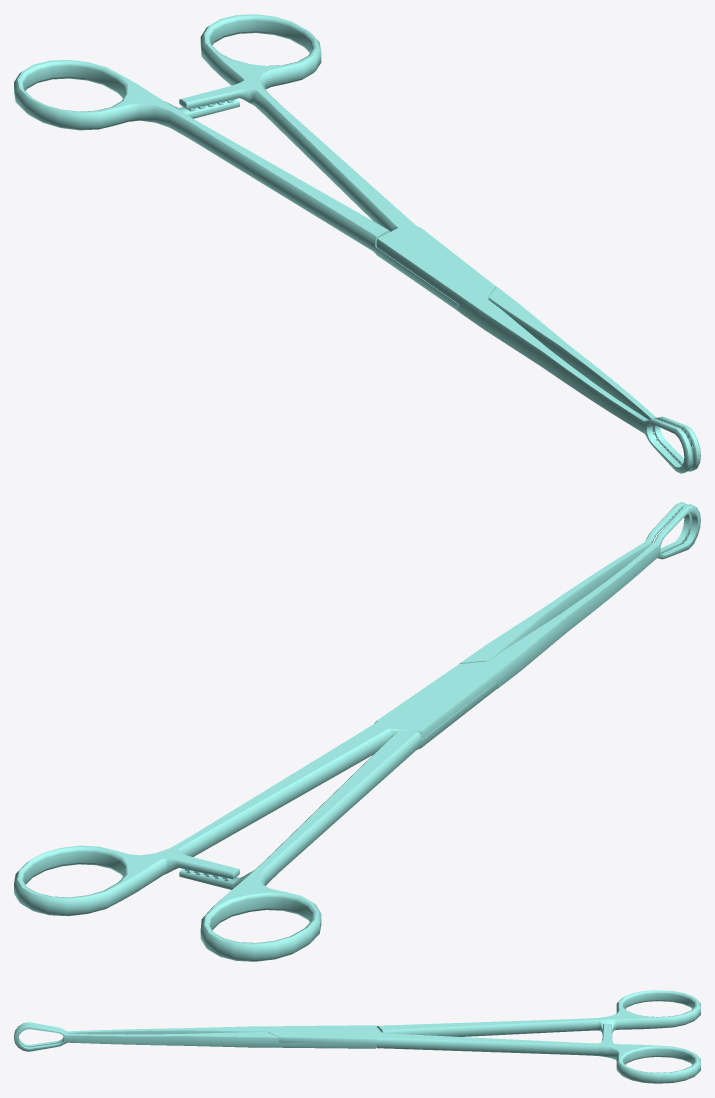
Rendered from Sponge_forceps.fbx.
The picture shows the model from 3 angles, top to bottom: view 1: azimuth 30°, elevation 25°; view 2: azimuth 150°, elevation 25°; view 3: azimuth 270°, elevation 25°; orthographic projection. The views are drawn at different scales.
Visible parts, largest first — view 1: sponge_forceps; view 2: sponge_forceps; view 3: sponge_forceps.
Boxes of the visible parts, x1,y1,x2,y2 form: sponge_forceps: [14, 14, 700, 473]; sponge_forceps: [14, 502, 700, 961]; sponge_forceps: [14, 990, 700, 1083].
Bounding box in the file's own units: 0.1 × 0.0144 × 0.3417.
